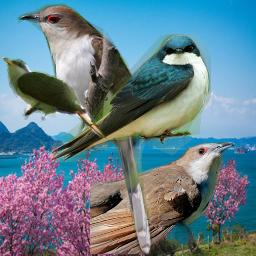Cuckoo: (16, 3, 153, 256), (90, 142, 235, 254), (0, 57, 107, 139)
Swallow: (48, 34, 211, 162)
